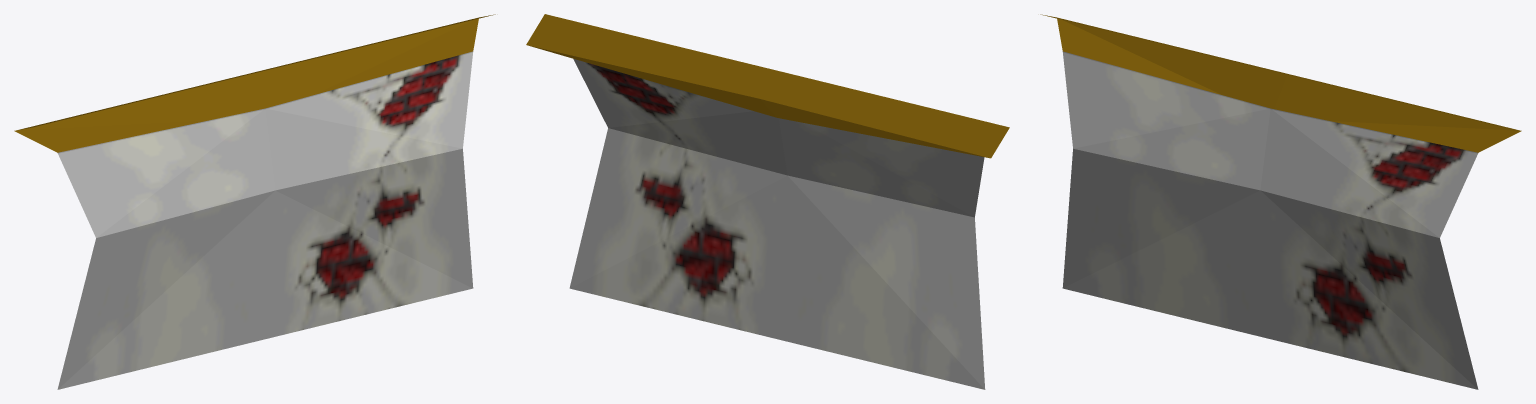
Rendered from Dach _PultSteinGerade2_1608.glb.
The picture shows the model from 3 angles, left to right: view 1: azimuth 30°, elevation 25°; view 2: azimuth 150°, elevation 25°; view 3: azimuth 330°, elevation 25°; orthographic projection.
Visible parts, largest first — view 1: pPlaneShape2, pPlaneShape5, polySurfaceShape1214, polySurfaceShape1216; view 2: pPlaneShape5, pPlaneShape2, polySurfaceShape1214, polySurfaceShape1216; view 3: pPlaneShape5, pPlaneShape2, polySurfaceShape1216, polySurfaceShape1214.
Part boxes in pixels (x1,y1,x2,y2): pPlaneShape2: (265,51,473,338); pPlaneShape5: (57,108,275,389); polySurfaceShape1214: (248,14,495,108); polySurfaceShape1216: (14,71,262,152); pPlaneShape5: (777,118,985,389); pPlaneShape2: (569,59,787,338); polySurfaceShape1214: (526,14,776,117); polySurfaceShape1216: (760,70,1009,158); pPlaneShape5: (1062,51,1270,338); pPlaneShape2: (1260,108,1478,389); polySurfaceShape1216: (1040,14,1287,108); polySurfaceShape1214: (1273,71,1521,152).
Size of the model in its own units: 0.5216 by 0.2879 by 0.064.
Materials: 4 (2 with a texture image).
